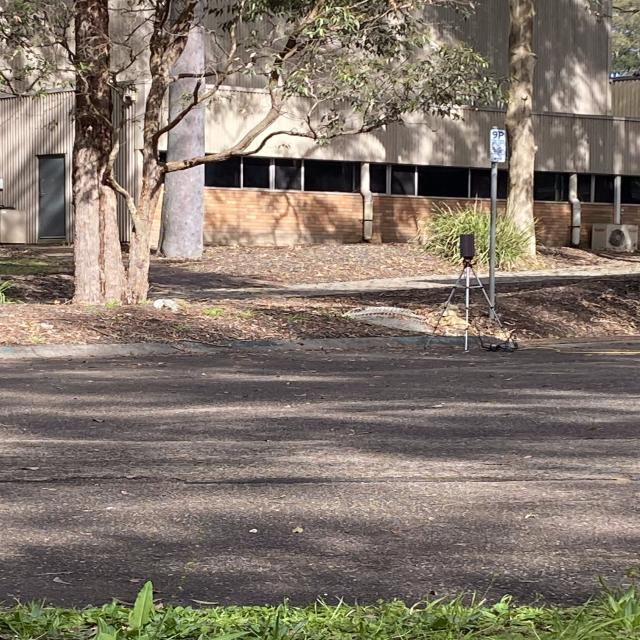matrix: (459, 234, 475, 258)
